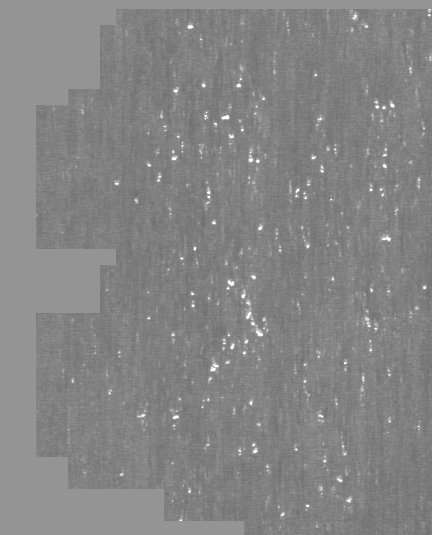oxl: (35, 10, 397, 525)
